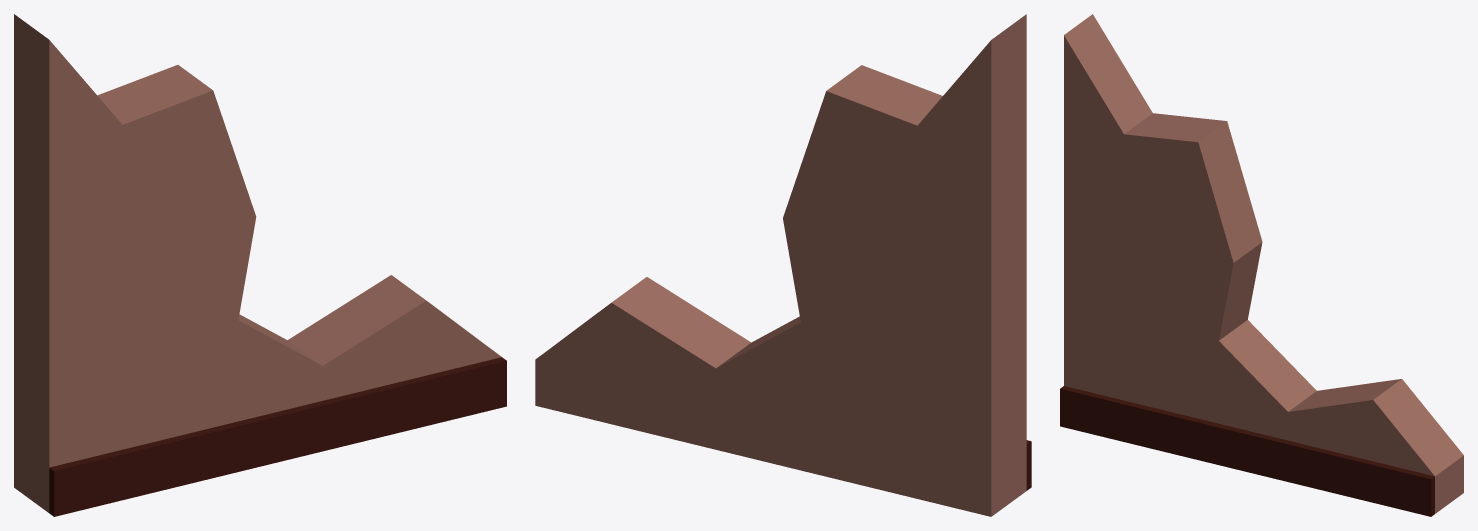
3 views of the same model, side by side, from view 1: azimuth 30°, elevation 25°; view 2: azimuth 150°, elevation 25°; view 3: azimuth 330°, elevation 25° (orthographic). The views are drawn at different scales.
Parts seen in each view (by area): view 1: TM4; view 2: TM4; view 3: TM4.
Part boxes in pixels (x1,y1,x2,y2): TM4: [14, 14, 506, 516]; TM4: [535, 14, 1031, 516]; TM4: [1060, 14, 1463, 516].
Size of the model in its own units: 100 by 100 by 15.31.
